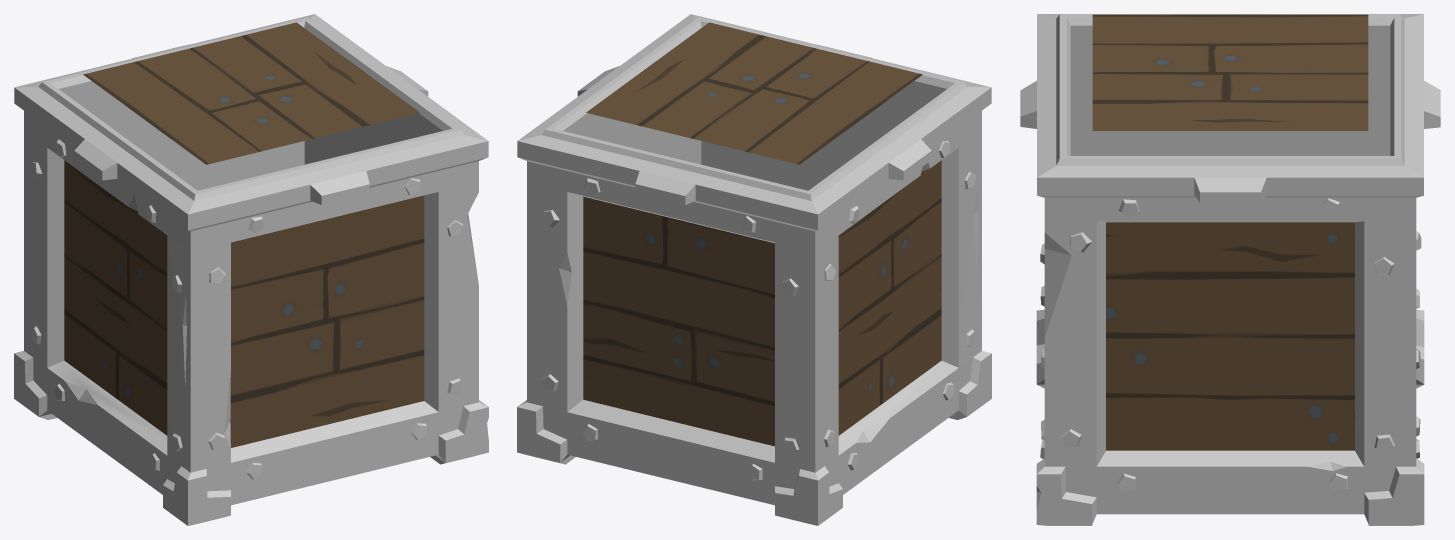
Rendered from SM_Prop_Crate_06.fbx.
3 renders of one model, left to right at view 1: azimuth 30°, elevation 25°; view 2: azimuth 150°, elevation 25°; view 3: azimuth 270°, elevation 25°, orthographic. The views are drawn at different scales.
Parts seen in each view (by area): view 1: SM_Prop_Crate_06, Crate06_panels, Crate06_lid_panels; view 2: SM_Prop_Crate_06, Crate06_panels, Crate06_lid_panels; view 3: SM_Prop_Crate_06, Crate06_panels, Crate06_lid_panels.
Part boxes in pixels (<box>): SM_Prop_Crate_06: <box>14,14,488,525</box>; Crate06_panels: <box>64,160,424,447</box>; Crate06_lid_panels: <box>83,22,419,164</box>; SM_Prop_Crate_06: <box>517,14,991,525</box>; Crate06_panels: <box>583,160,941,446</box>; Crate06_lid_panels: <box>586,22,922,164</box>; SM_Prop_Crate_06: <box>1020,14,1440,525</box>; Crate06_panels: <box>1106,222,1354,450</box>; Crate06_lid_panels: <box>1092,14,1368,130</box>.
Size of the model in its own units: 94.16 by 93.02 by 94.16.
